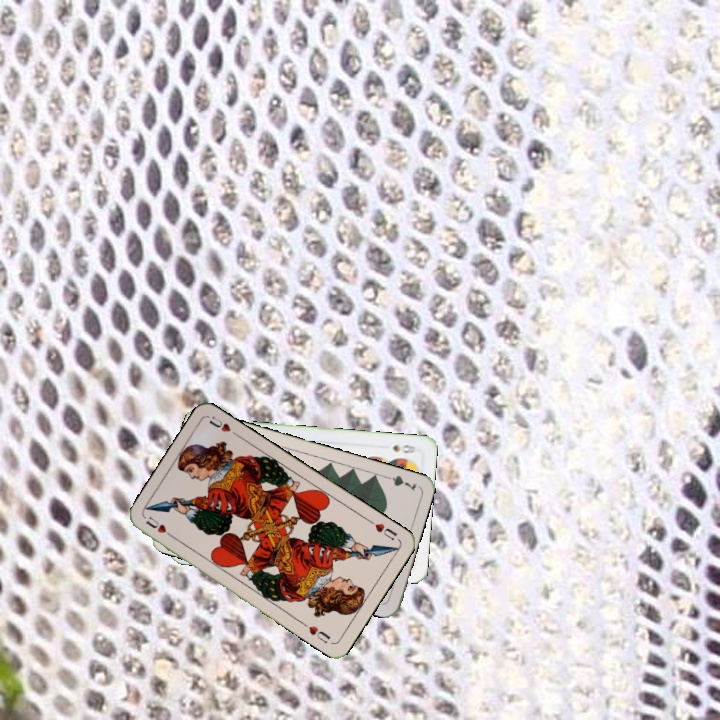G7: (379, 471, 419, 494)
HU: (142, 512, 178, 541), (365, 516, 400, 543)
S8: (389, 441, 419, 456)
